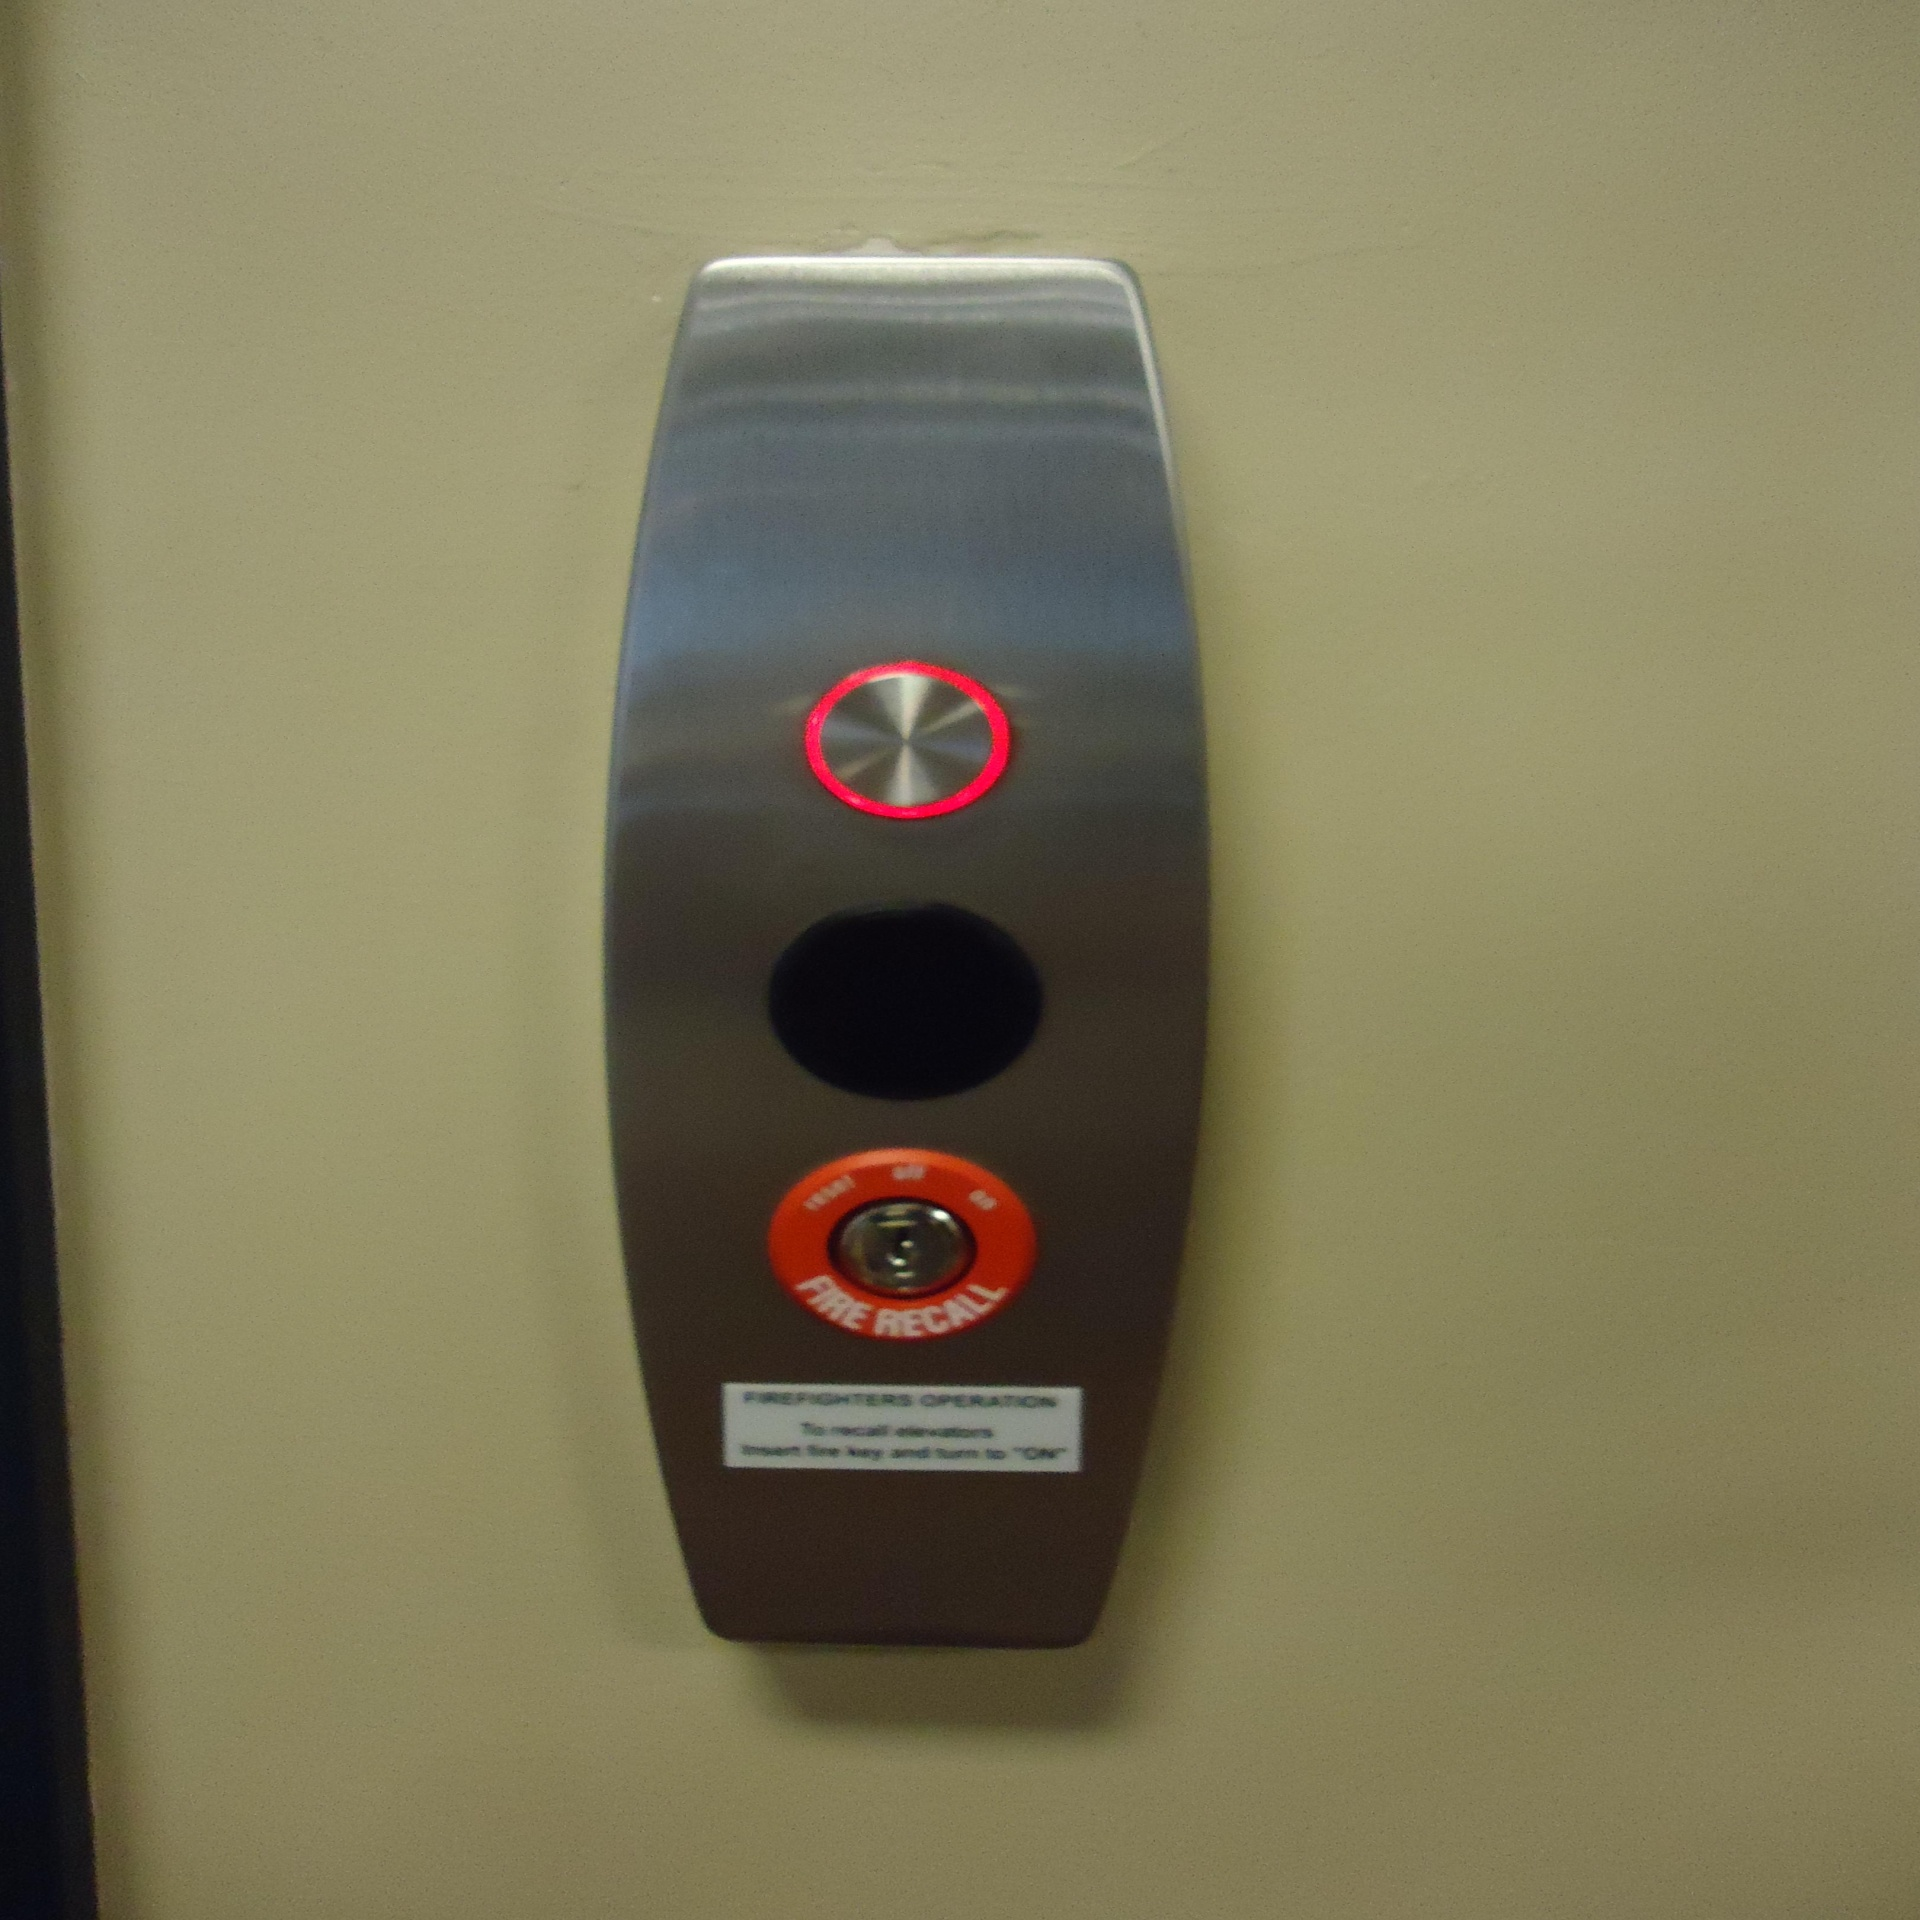empty: (753, 884, 1058, 1111), (789, 647, 1027, 833)
keyhole: (756, 1136, 1053, 1357)
